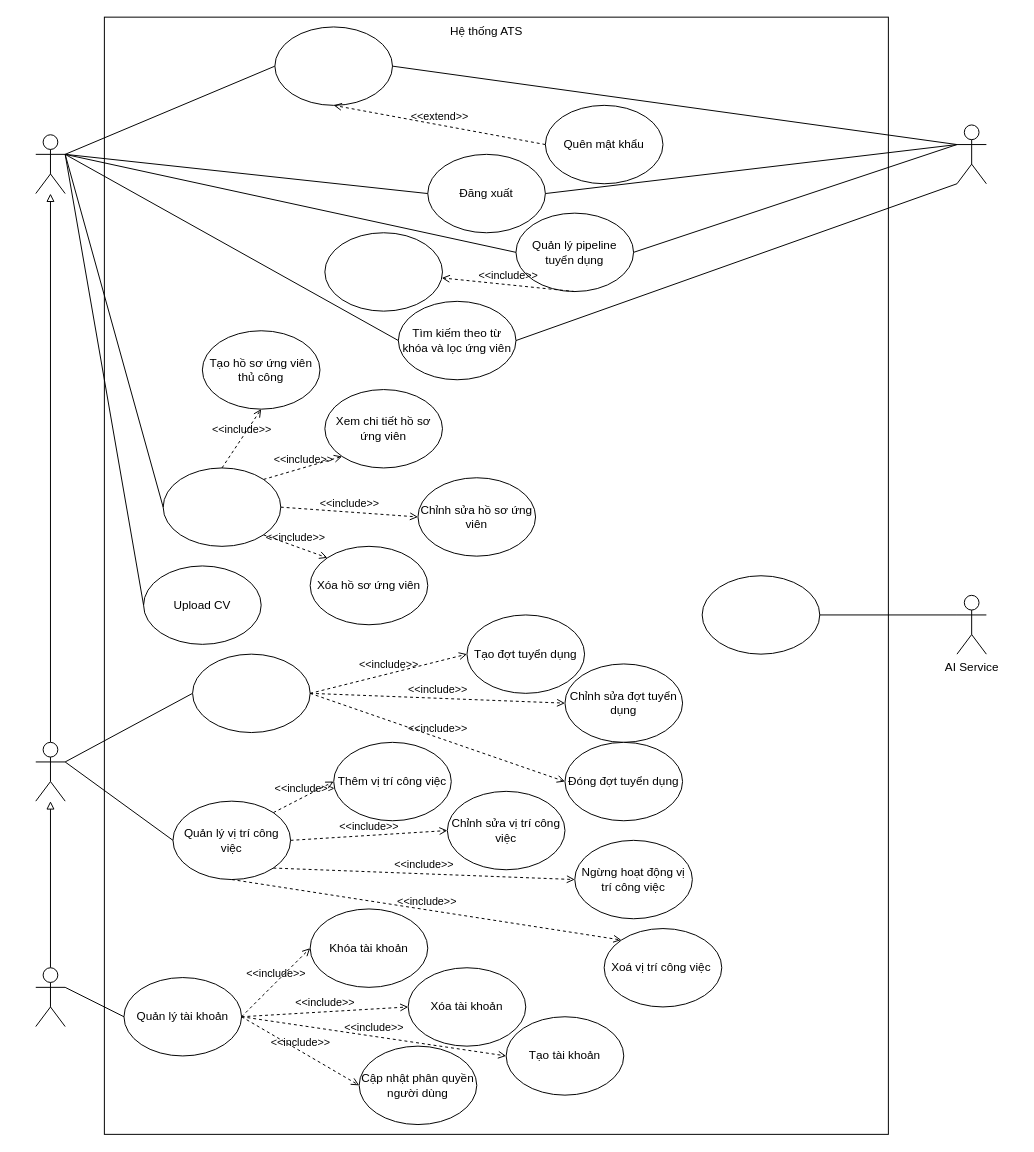
Image size: 1034x1152. Some labels were removed from this diagram. The centre of each missing label's shape, as x and y in pixels:
Admin: (50,997)
Cập nhật trạng thái ứng viên: (383,271)
HR: (50,164)
HR Manager: (50,771)
Người phỏng vẩn: (971,154)
Parsing CV: (760,614)
Quản lý hồ sơ ứng viên: (221,506)
Quản lý đợt tuyển dụng: (251,693)
Đăng nhập: (333,65)
